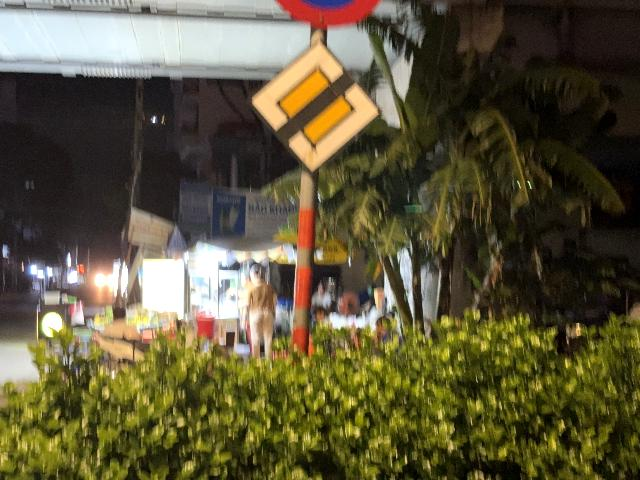het-duong-uu-tien: (248, 37, 381, 175)
